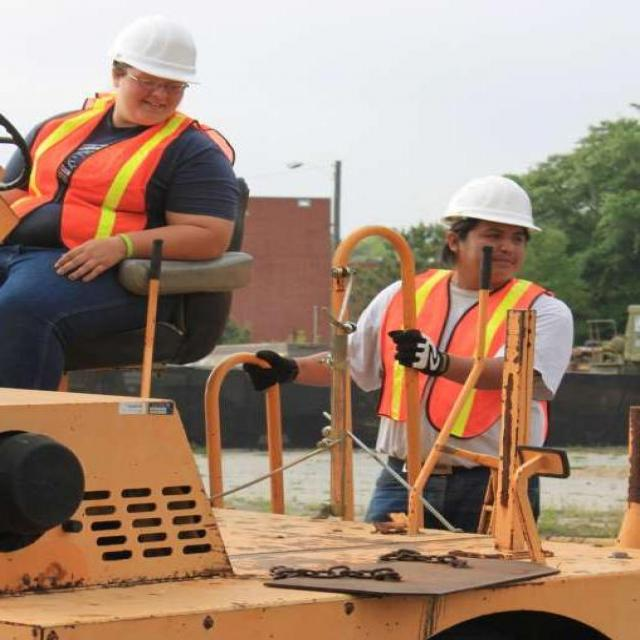Reflective-Jacket: (0, 101, 257, 287), (353, 268, 572, 452)
Safety-Helmet: (94, 8, 215, 92), (426, 165, 552, 244)
